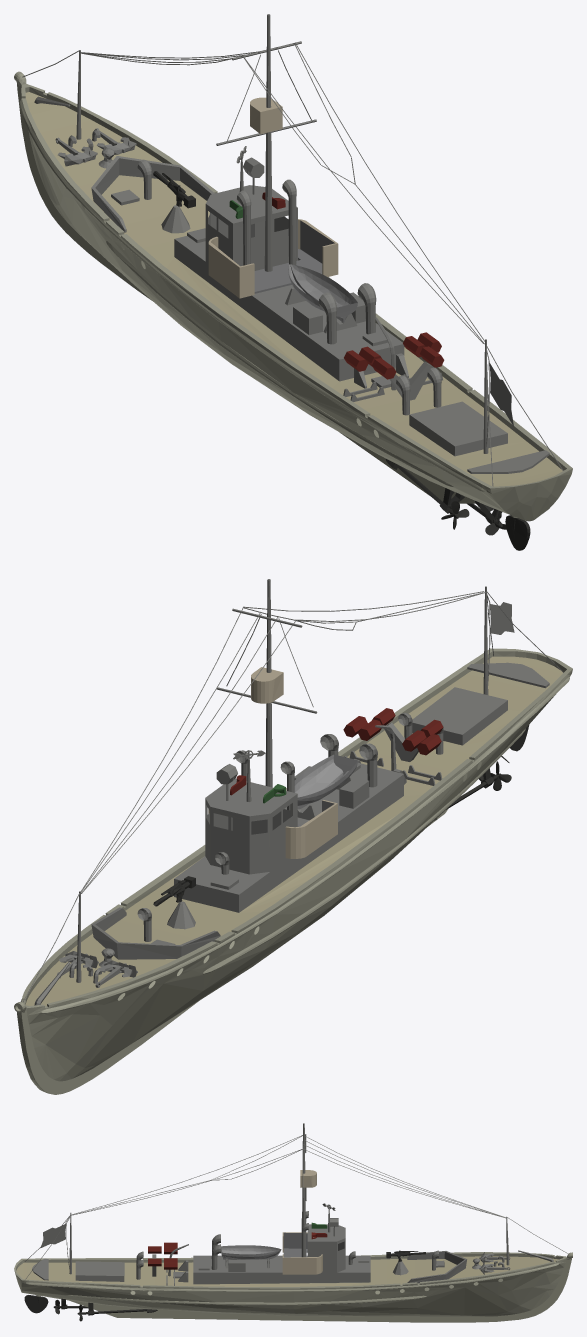
File: mod0.obj
3 renders of one model, top to bottom at view 1: azimuth 30°, elevation 25°; view 2: azimuth 150°, elevation 25°; view 3: azimuth 270°, elevation 25°, orthographic. The views are drawn at different scales.
Visible parts, largest first — view 1: Mesh.083_SCcasco; view 2: Mesh.083_SCcasco; view 3: Mesh.083_SCcasco.
Part boxes in pixels (x1,y1,x2,y2): Mesh.083_SCcasco: (14,14,572,550); Mesh.083_SCcasco: (14,579,572,1094); Mesh.083_SCcasco: (14,1123,572,1322).
Size of the model in its own units: 141 by 404 by 1032.
